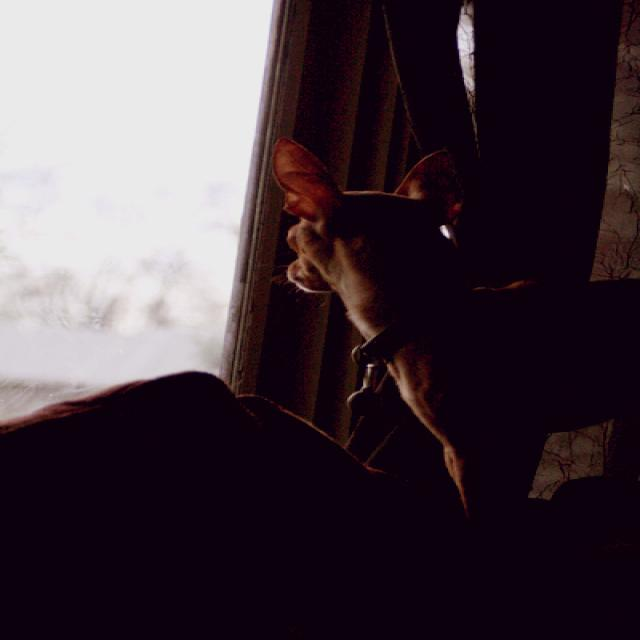Dog: (278, 167, 640, 519)
